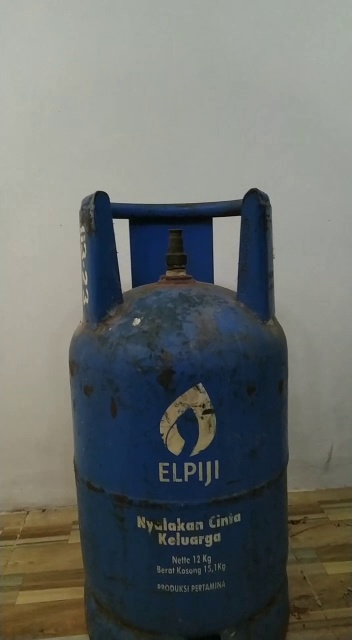blue_gas: (67, 185, 290, 640)
